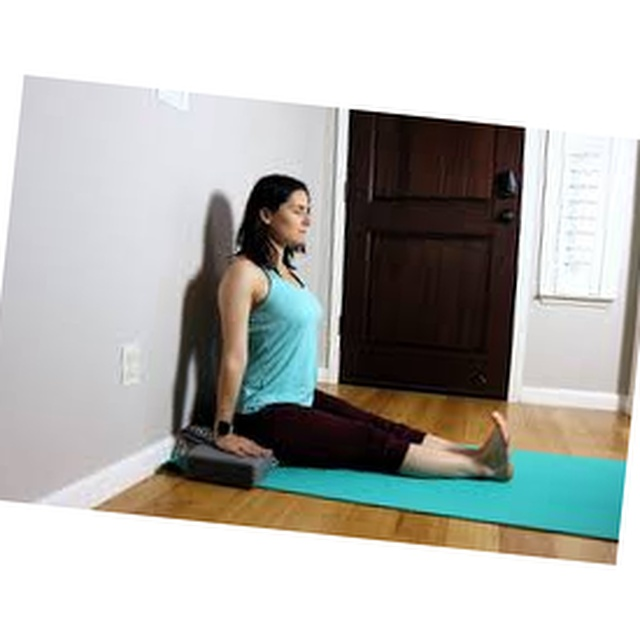Staff_Pose: (209, 170, 518, 482)
